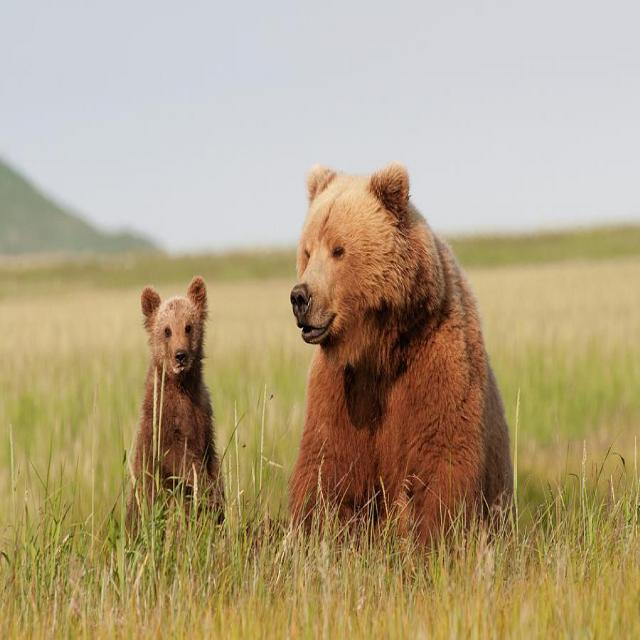Bear: (289, 164, 515, 538), (130, 279, 225, 522)
